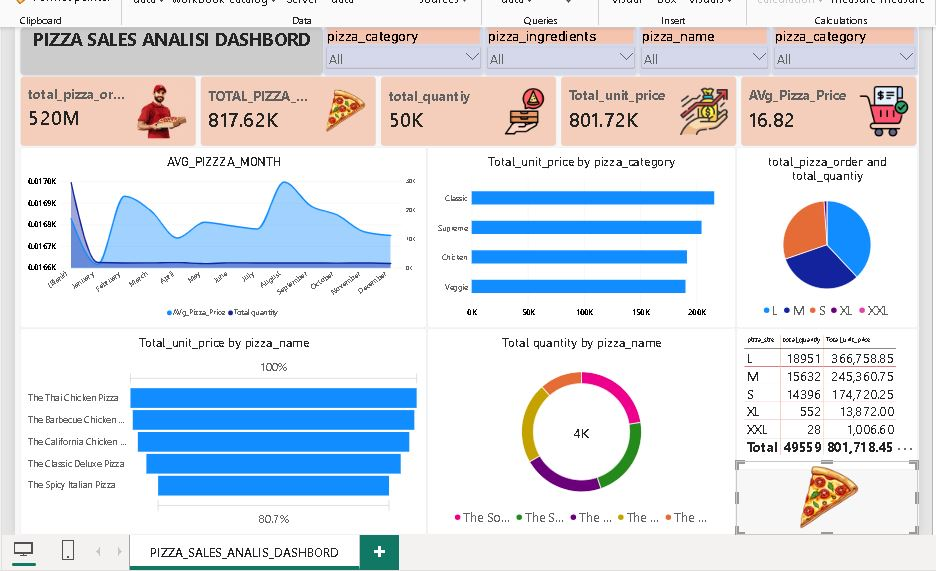

The page's visual inventory and layout, read from the dashboard file:
{"tool":"powerbi","page":{"name":"PIZZA_SALES_ANALIS_DASHBORD","canvas":[1920,1080],"ordinal":0},"visuals":[{"type":"textbox","box":[10.1,0,645,103.3],"z":0},{"type":"slicer","fields":{"Values":["pizza_sales.pizza_category"]},"box":[654.8,0,342.3,104.2],"z":1000},{"type":"slicer","fields":{"Values":["pizza_sales.pizza_ingredients"]},"box":[997.1,0,327.4,104.2],"z":2000},{"type":"slicer","fields":{"Values":["pizza_sales.pizza_name"]},"box":[1324.5,0,282.8,104.2],"z":3000},{"type":"slicer","fields":{"Values":["pizza_sales.pizza_category"]},"box":[1607.2,0,312.5,104.2],"z":4000},{"type":"cardVisual","fields":{"Data":["pizza_sales.total_pizza_order","pizza_sales.TOTAL_PIZZA_price","pizza_sales.total_quantiy","pizza_sales.Total_unit_price","pizza_sales.AVg_Pizza_Price"]},"box":[10.6,104.2,1909.1,150.9],"z":5000},{"type":"lineChart","title":"AVG_PIZZZA_MONTH","fields":{"Category":["pizza_sales.order_date.Variation.Date Hierarchy.Month"],"Y":["pizza_sales.AVg_Pizza_Price"],"Y2":["Sum(pizza_sales.quantity)"]},"box":[10.6,255.1,865.3,384.8],"z":6000},{"type":"clusteredBarChart","fields":{"Category":["pizza_sales.pizza_category"],"Y":["pizza_sales.Total_unit_price"]},"box":[875.9,255.1,656.9,384.8],"z":7000},{"type":"pieChart","title":"total_pizza_order and total_quantiy ","fields":{"Category":["pizza_sales.pizza_size"],"Y":["pizza_sales.total_pizza_order","pizza_sales.total_quantiy"]},"box":[1532.8,255.1,386.9,384.8],"z":8000},{"type":"funnel","fields":{"Category":["pizza_sales.pizza_name"],"Y":["pizza_sales.Total_unit_price"]},"box":[10.6,639.9,865.3,440.1],"z":8001},{"type":"donutChart","fields":{"Category":["pizza_sales.pizza_name"],"Y":["Sum(pizza_sales.quantity)"]},"box":[875.9,639.9,656.9,440.1],"z":8002},{"type":"tableEx","fields":{"Values":["pizza_sales.pizza_size","pizza_sales.total_quantiy","pizza_sales.Total_unit_price"]},"box":[1532.8,639.9,386.9,301.9],"z":8003},{"type":"image","box":[1532.8,922.7,386.9,157.3],"z":8004}]}

Visuals, with their boxes on the page's 1920x1080 design canvas (x1, y1, x2, y2). These are canvas units, not pixel positions in the 936x571 screenshot, which may show the page scaled, cropped or inside an application window:
textbox: 10:0:655:103
slicer - pizza_sales.pizza_category: 655:0:997:104
slicer - pizza_sales.pizza_ingredients: 997:0:1324:104
slicer - pizza_sales.pizza_name: 1324:0:1607:104
slicer - pizza_sales.pizza_category: 1607:0:1920:104
cardVisual - pizza_sales.total_pizza_order x pizza_sales.TOTAL_PIZZA_price: 11:104:1920:255
"AVG_PIZZZA_MONTH" lineChart: 11:255:876:640
clusteredBarChart - pizza_sales.pizza_category x pizza_sales.Total_unit_price: 876:255:1533:640
"total_pizza_order and total_quantiy " pieChart: 1533:255:1920:640
funnel - pizza_sales.pizza_name x pizza_sales.Total_unit_price: 11:640:876:1080
donutChart - pizza_sales.pizza_name x Sum(pizza_sales.quantity): 876:640:1533:1080
tableEx - pizza_sales.pizza_size x pizza_sales.total_quantiy: 1533:640:1920:942
image: 1533:923:1920:1080
